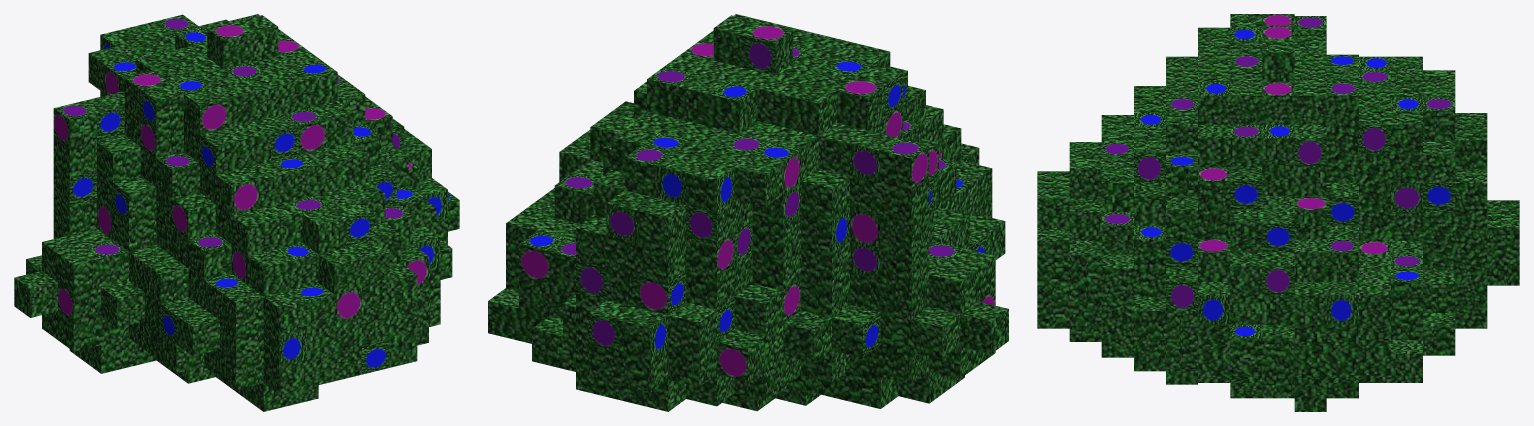
The model's file is arbusto2.obj.
The picture shows the model from 3 angles, left to right: view 1: azimuth 30°, elevation 25°; view 2: azimuth 150°, elevation 25°; view 3: azimuth 270°, elevation 25°; orthographic projection. The views are drawn at different scales.
Visible parts, largest first — view 1: Sphere; view 2: Sphere; view 3: Sphere.
Boxes of the visible parts, bbox=[...] form: Sphere: bbox=[14, 14, 459, 411]; Sphere: bbox=[488, 14, 1008, 411]; Sphere: bbox=[1037, 14, 1519, 411].
Size of the model in its own units: 9.41 by 6.9 by 9.41.
